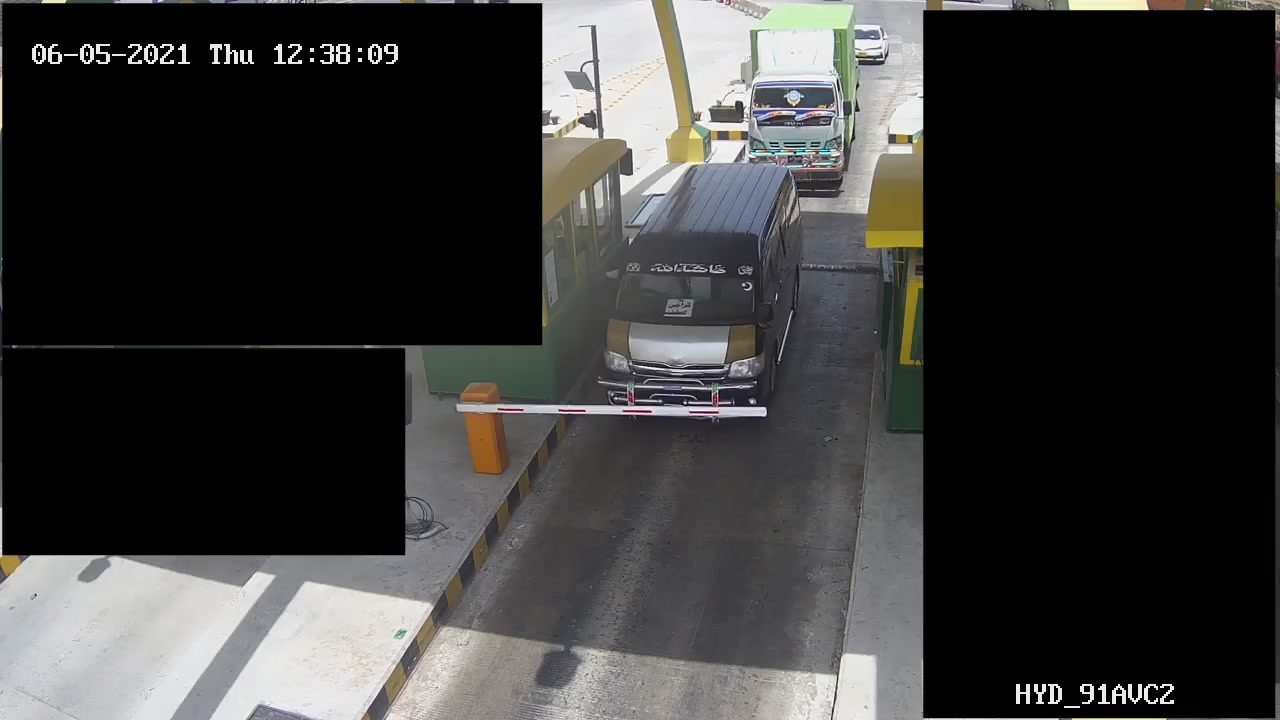F2: (603, 162, 813, 413)
